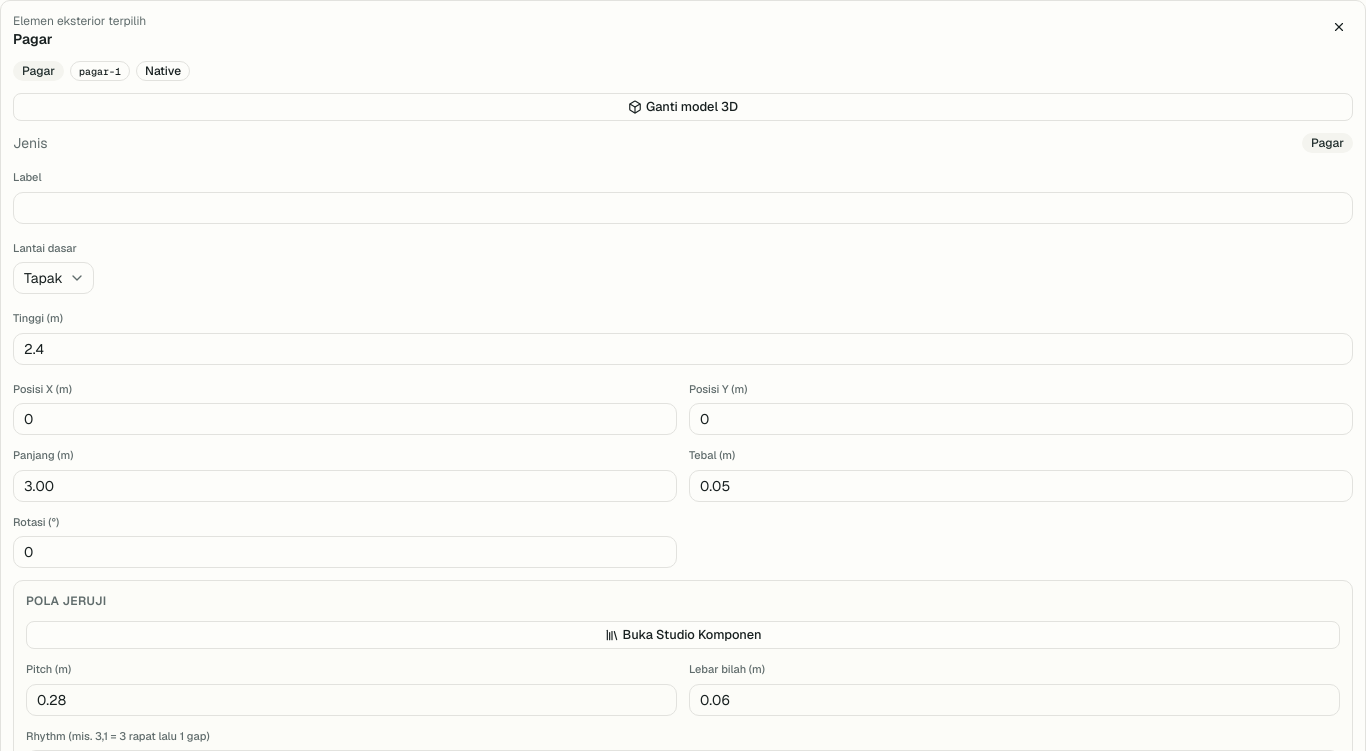
ExteriorInspectorCard — inspector terpadu (dulu read-only di 3D) › edit label menulis ke layout (mutasi nyata, bukan read-only)
In the field named "Label elemen": (683, 208) [13,192,1353,224], type "Pagar depan"
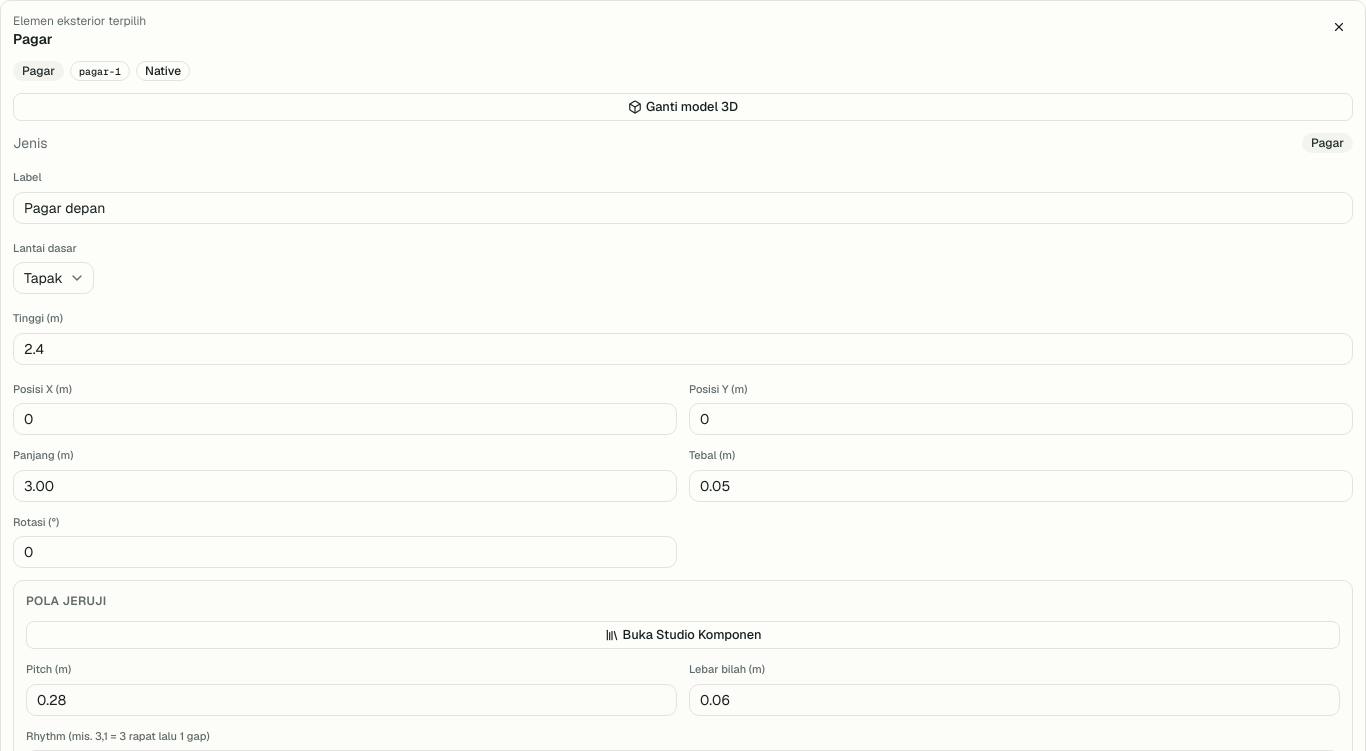
Leave the field named "Label elemen", box [13,192,1353,224]
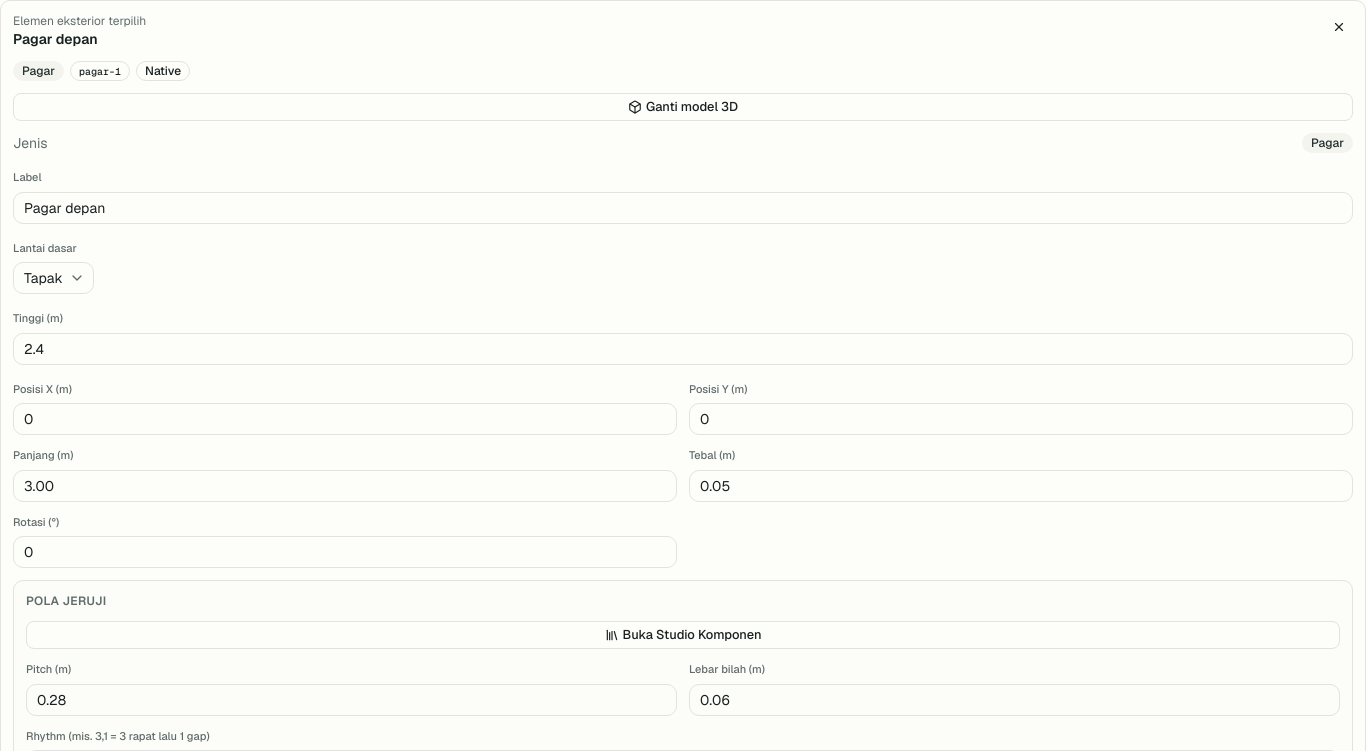
Check: the text "Pagar depan" is shown, box [13,30,98,48]
